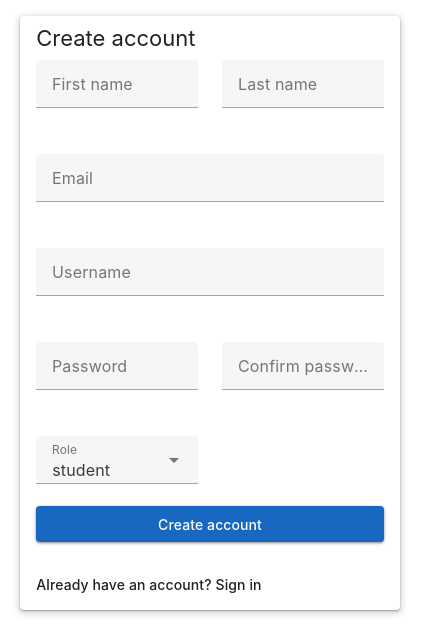
Feature 1 — User Authentication & Session Management › US-1.1 — Registration › User submits registration with mismatched passwords
Type "Jane" into the field labelled "First name". click: (117, 84)
box: [36,60,198,108]
Type "Doe" into the field labelled "Last name". click: (303, 84)
box: [222,60,384,108]
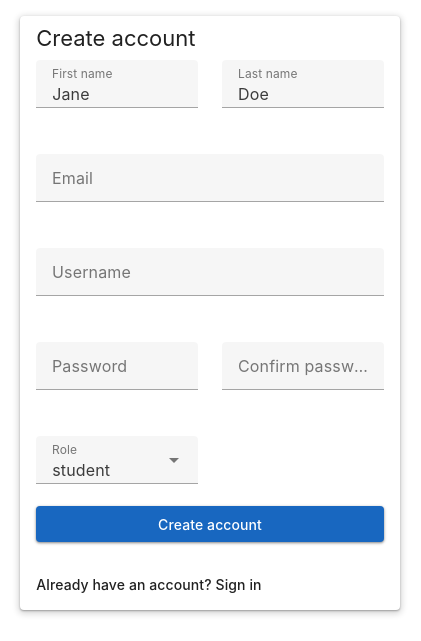
Type "jane@example.com" into the field labelled "Email". click: (210, 178)
box: [36,154,384,202]
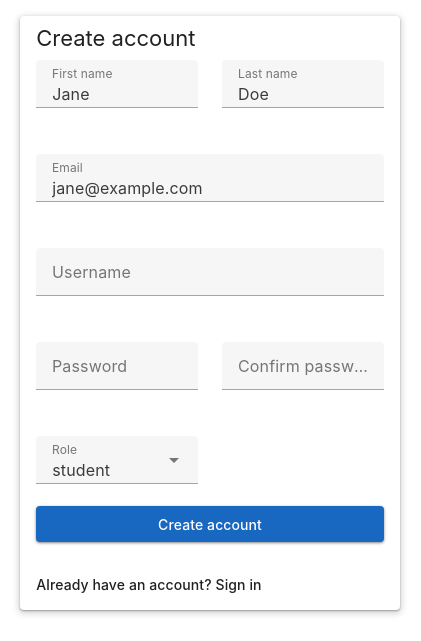
Type "jdoe" into the field labelled "Username". click: (210, 272)
box: [36,248,384,296]
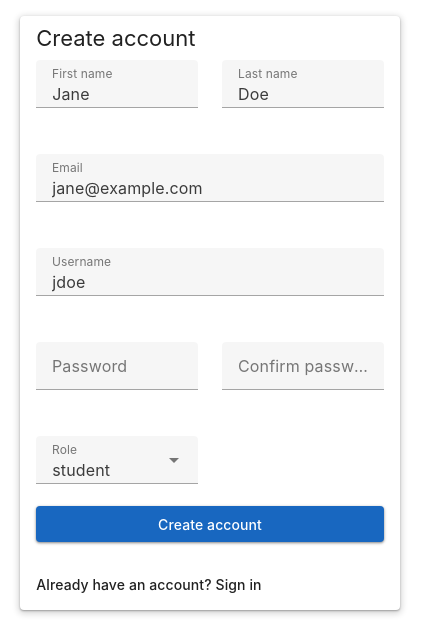
Type "password123" into the password field labelled "Password". click: (117, 366)
box: [36,342,198,390]
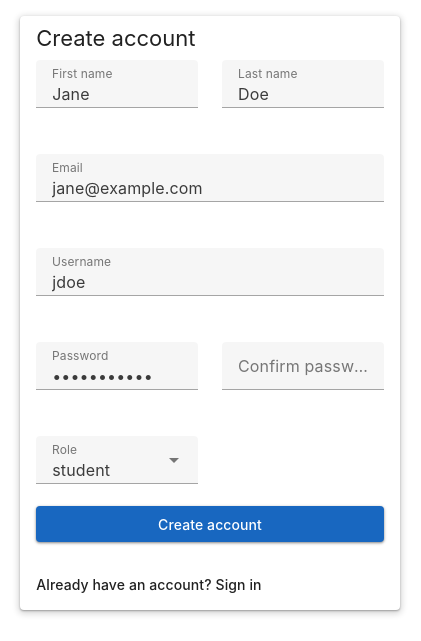
Type "different123" into the password field labelled "Confirm password". click: (303, 366)
box: [222,342,384,390]
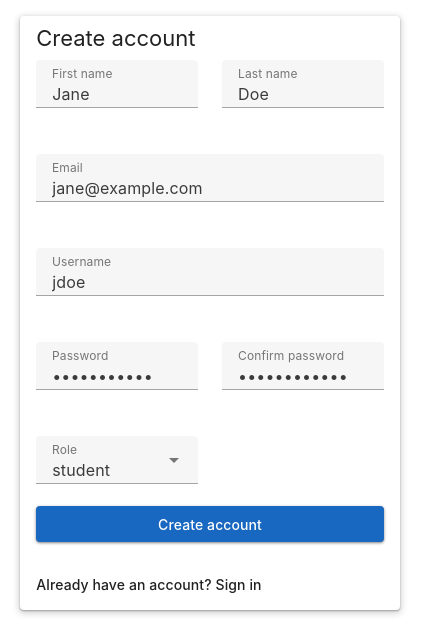
Submit the form
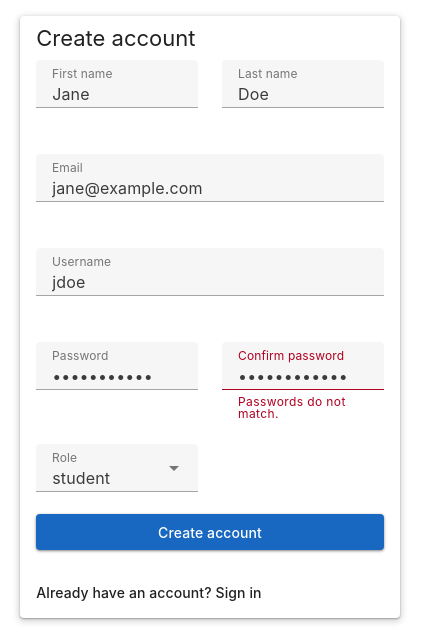
Now the text "Passwords do not match." is shown, box [238,394,346,420]
